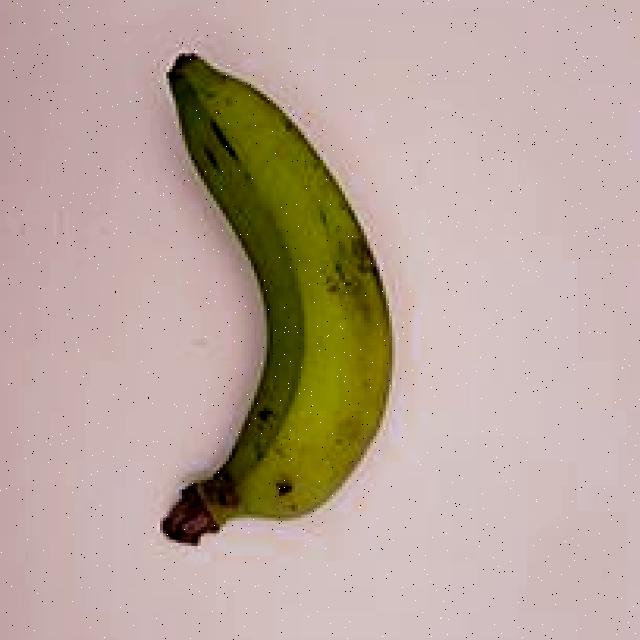Raw: (74, 21, 444, 569)
